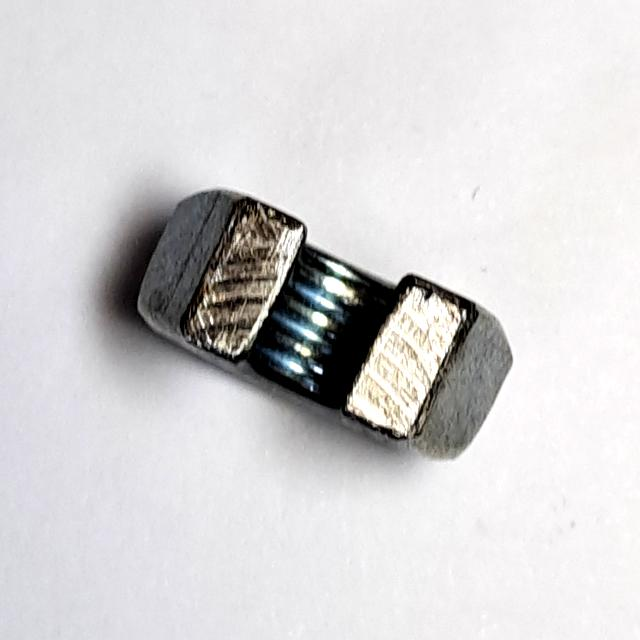Side-Fracture: (126, 173, 527, 477)
